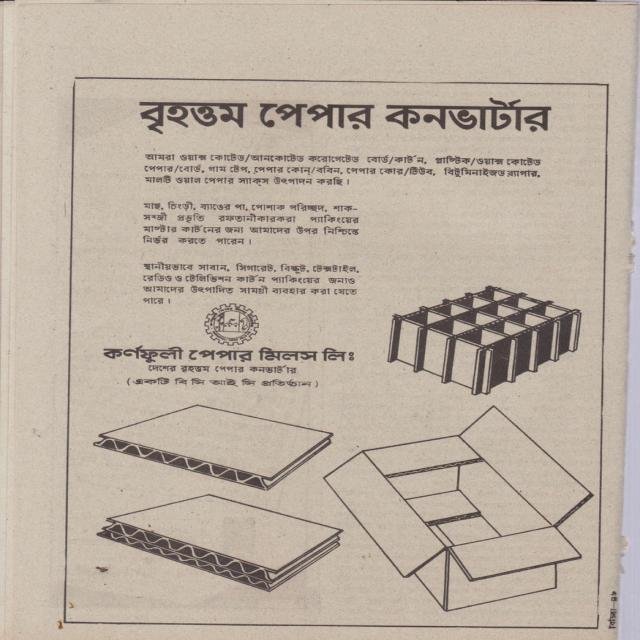advertisement: (64, 80, 607, 627)
page number: (610, 590, 620, 609)
text: (609, 606, 618, 629)
